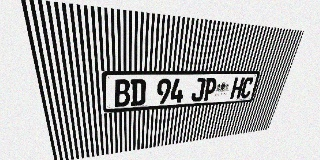4: (170, 78, 185, 103)
9: (156, 78, 172, 104)
B: (114, 79, 130, 107)
C: (240, 77, 255, 98)
D: (130, 79, 146, 106)
H: (230, 77, 245, 99)
J: (191, 78, 206, 102)
P: (202, 78, 218, 101)
